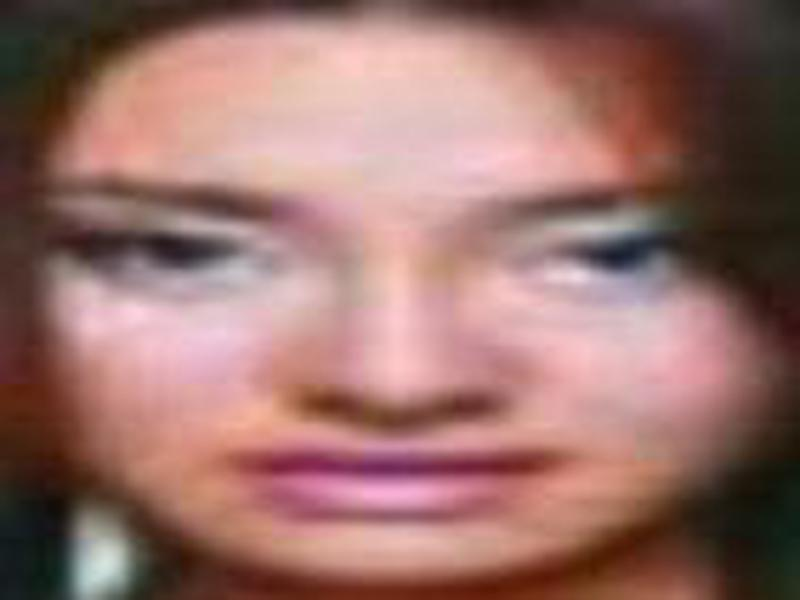without_mask: (24, 92, 776, 592)
